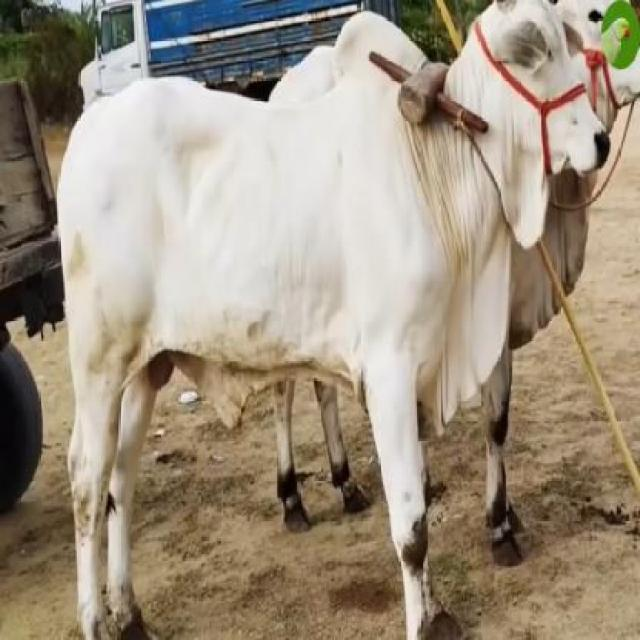Cow: (55, 0, 610, 638)
